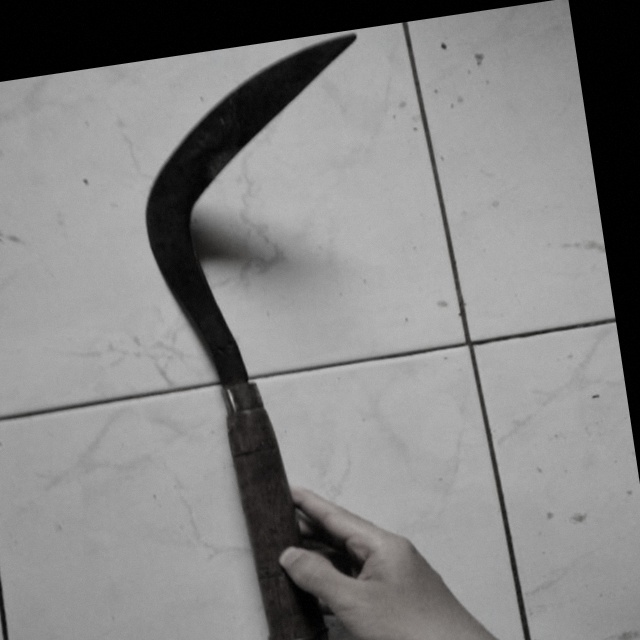Sharp-Object: (98, 27, 498, 640)
